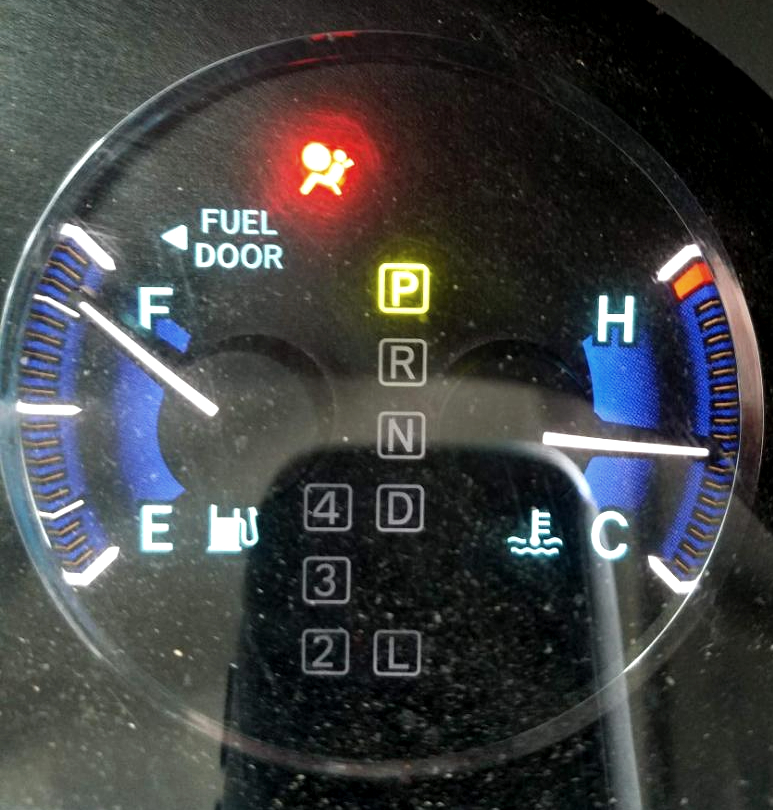Airbag_warning: (294, 137, 356, 202)
